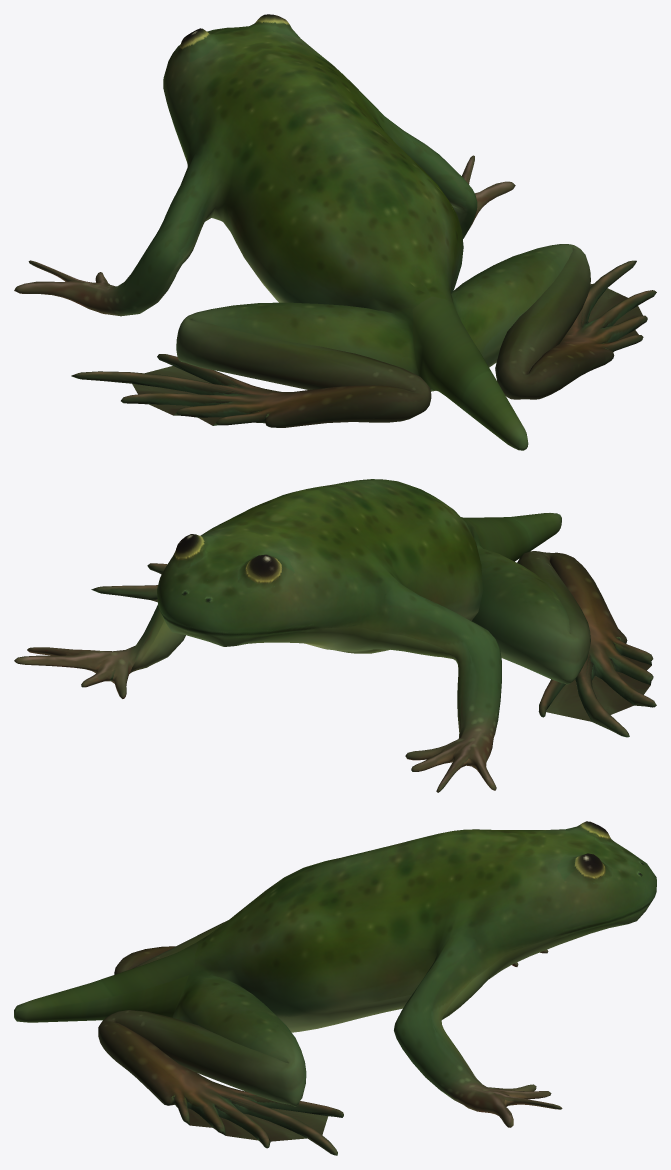
Rendered from Froglet 4.fbx.
3 renders of one model, top to bottom at view 1: azimuth 30°, elevation 25°; view 2: azimuth 150°, elevation 25°; view 3: azimuth 270°, elevation 25°, orthographic. The views are drawn at different scales.
Visible parts, largest first — view 1: Plane; view 2: Plane; view 3: Plane.
Part boxes in pixels (bbox=[...]): Plane: bbox=[14, 14, 656, 450]; Plane: bbox=[14, 479, 656, 792]; Plane: bbox=[14, 821, 656, 1155].
Size of the model in its own units: 8.37 by 2.98 by 7.73.
